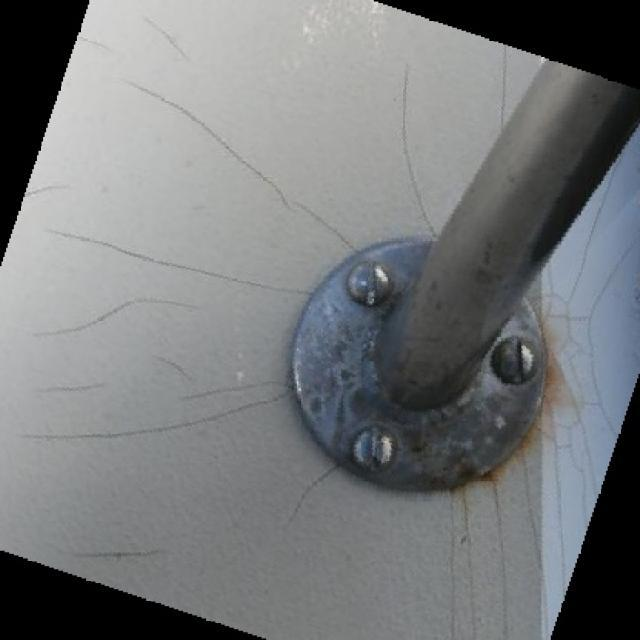crack: (137, 75, 360, 255), (67, 218, 310, 294), (29, 395, 295, 446), (387, 72, 443, 234), (35, 296, 203, 344), (163, 373, 306, 404), (141, 350, 201, 383), (49, 377, 115, 406)
